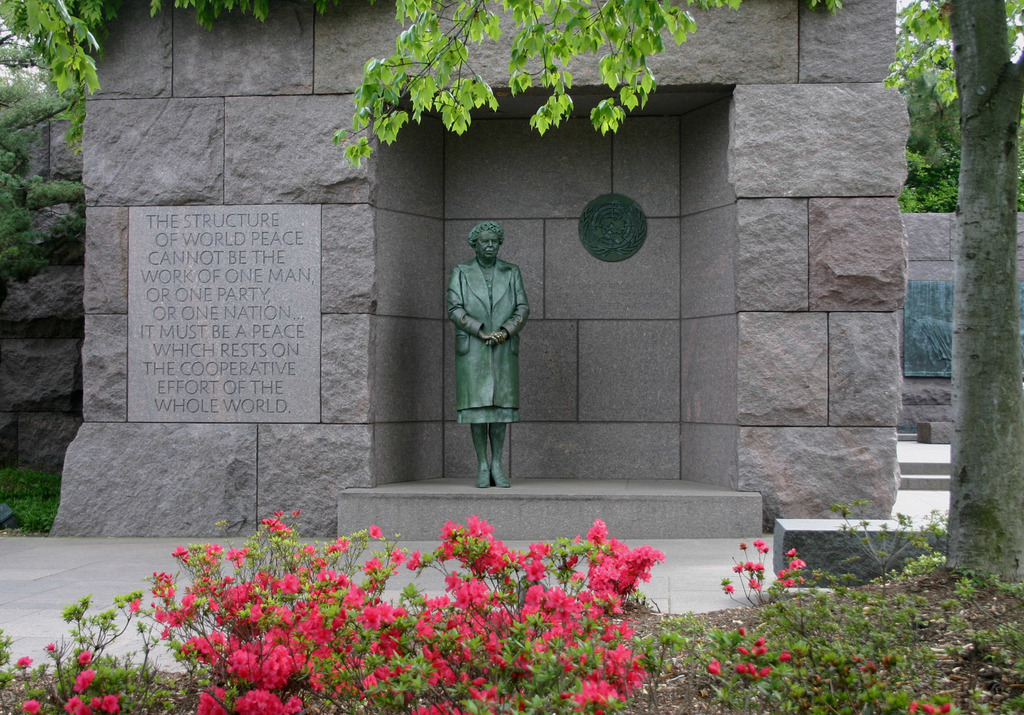Tree: (334, 0, 1023, 560)
